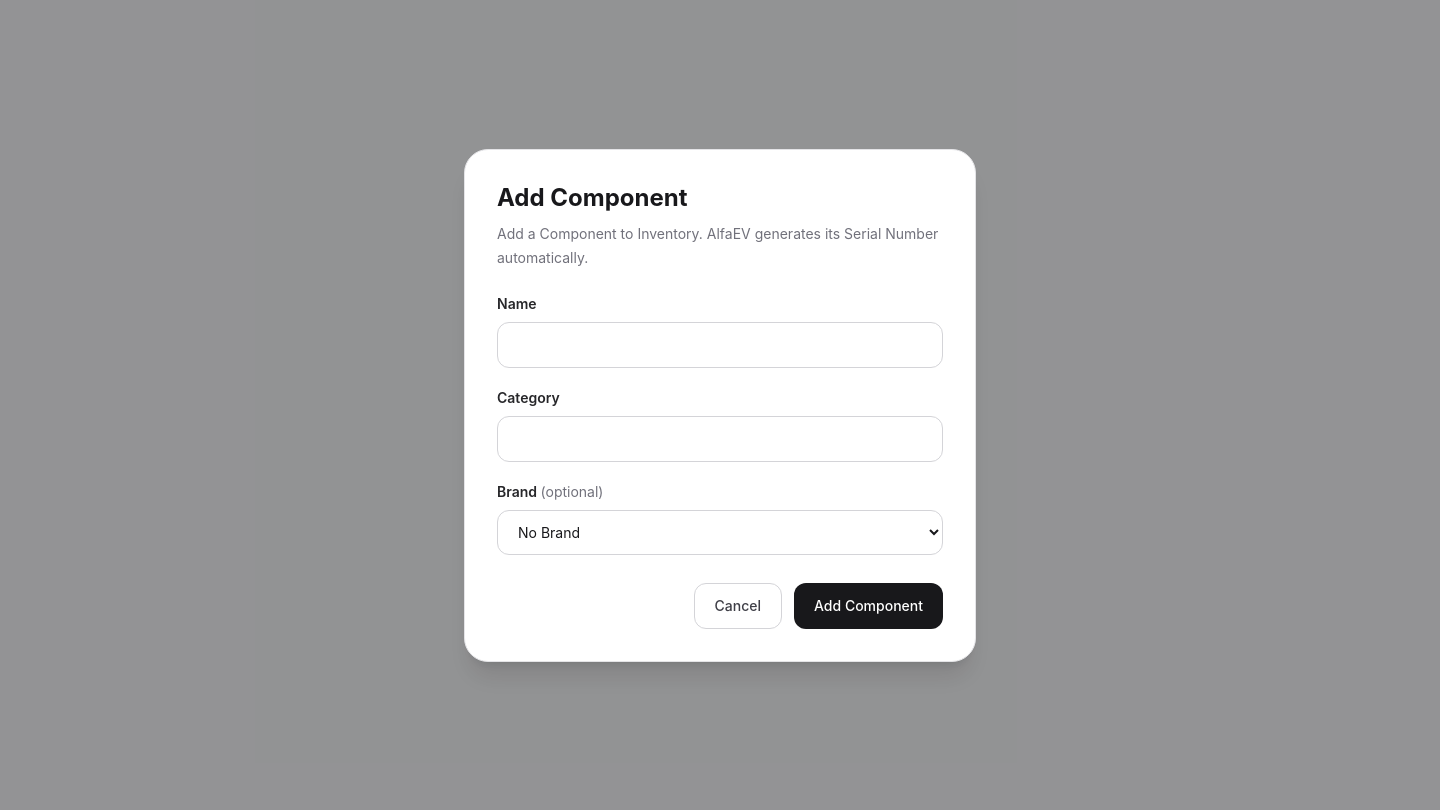
Test: AddComponentDialog › keeps a safe backend error visible and the dialog open
Type "  Resistor  " into the field labelled "Name" at (720,344), box left=497, top=322, right=943, bottom=368
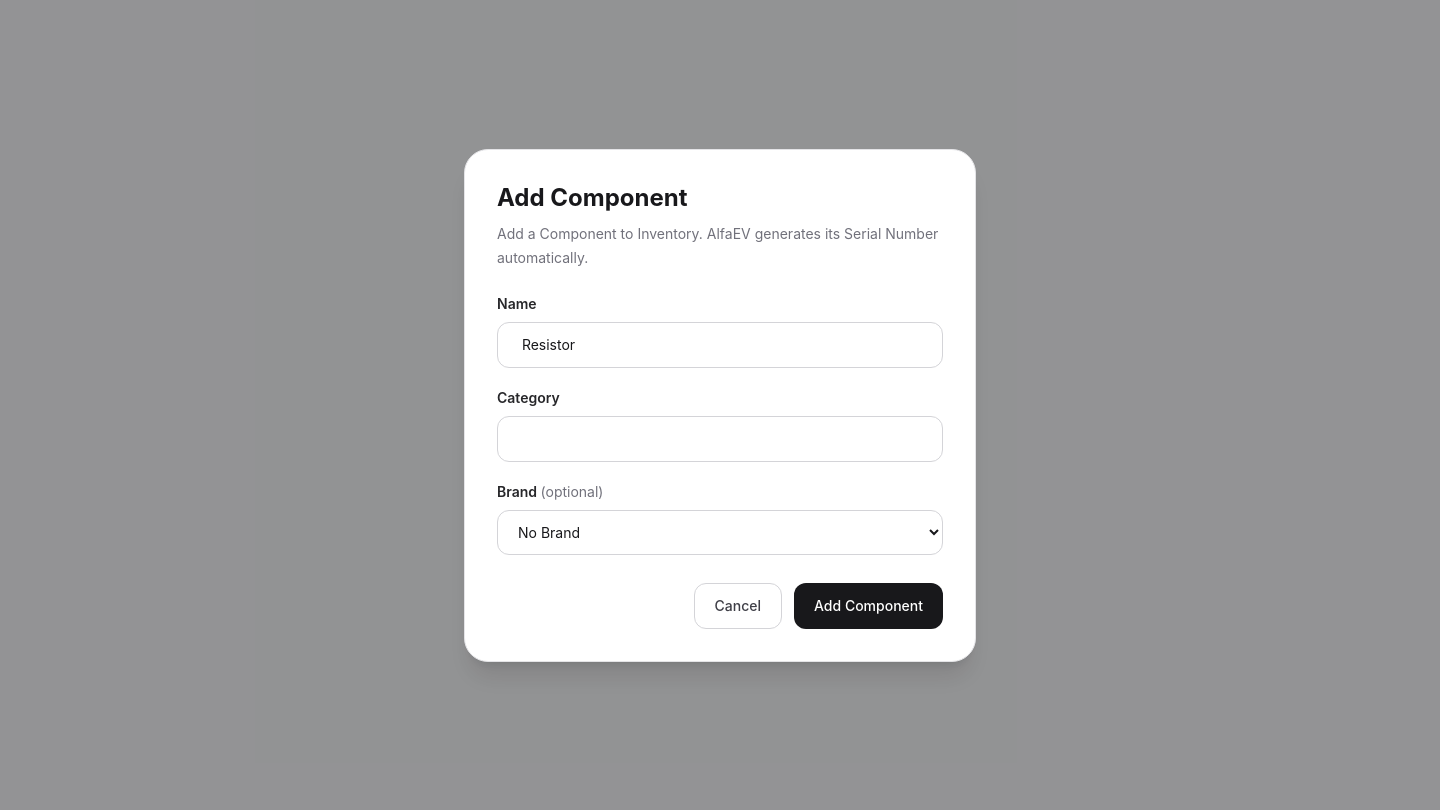
Type "  Passive Components  " into the field labelled "Category" at (720,438), box left=497, top=416, right=943, bottom=462
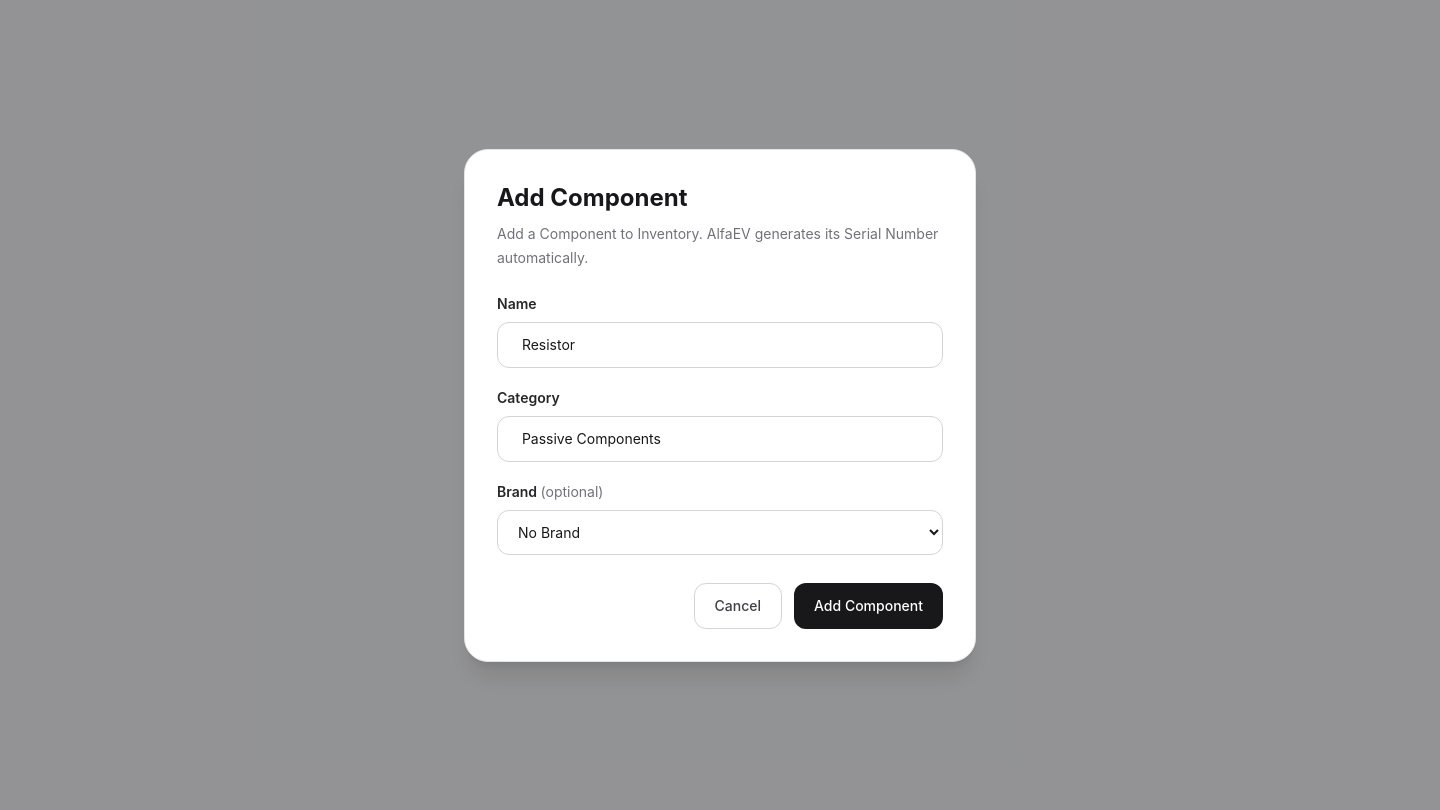
Click the button "Add Component" at (868,606), box left=794, top=582, right=943, bottom=628
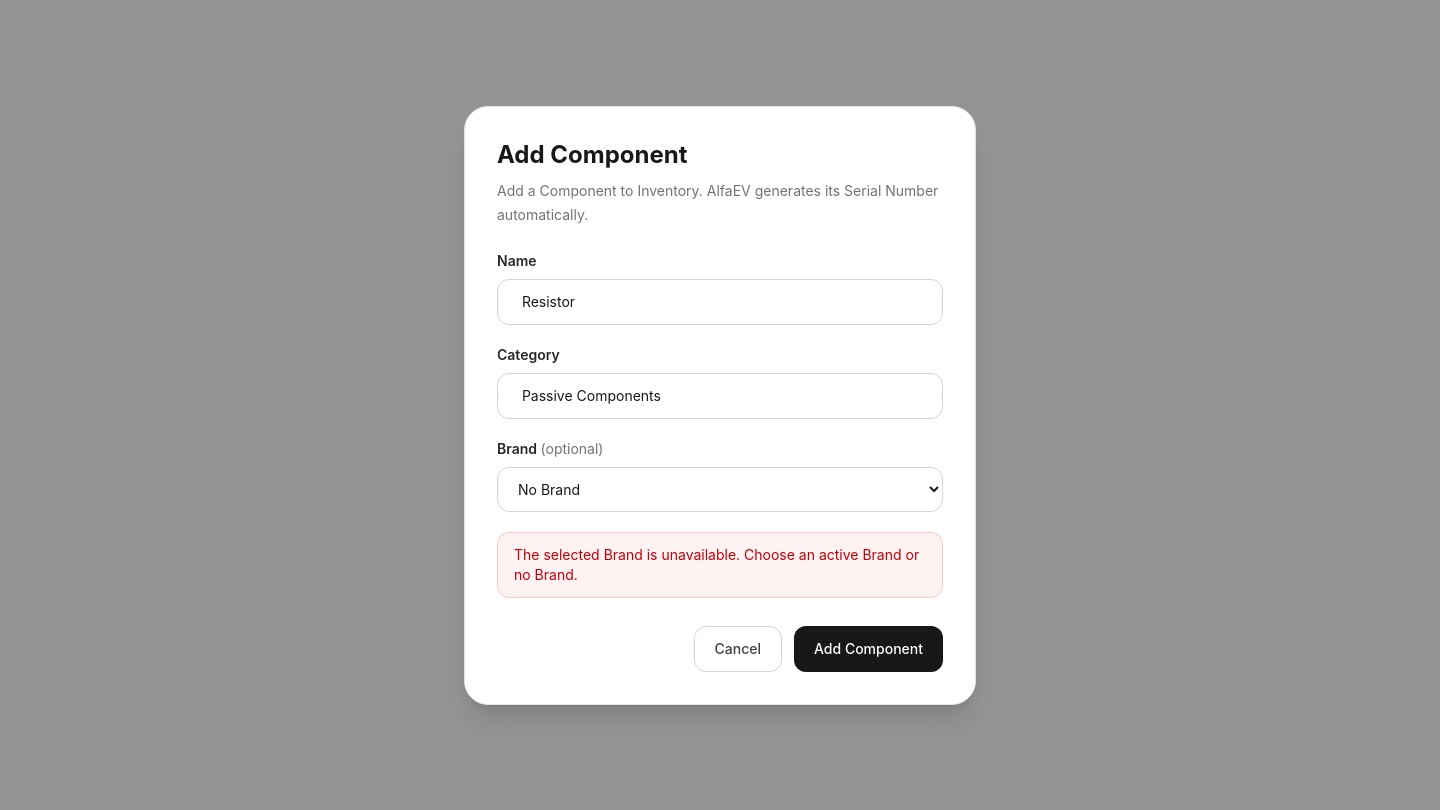
Expected: the message shows "The selected Brand is unavailable.", left=514, top=546, right=919, bottom=582
